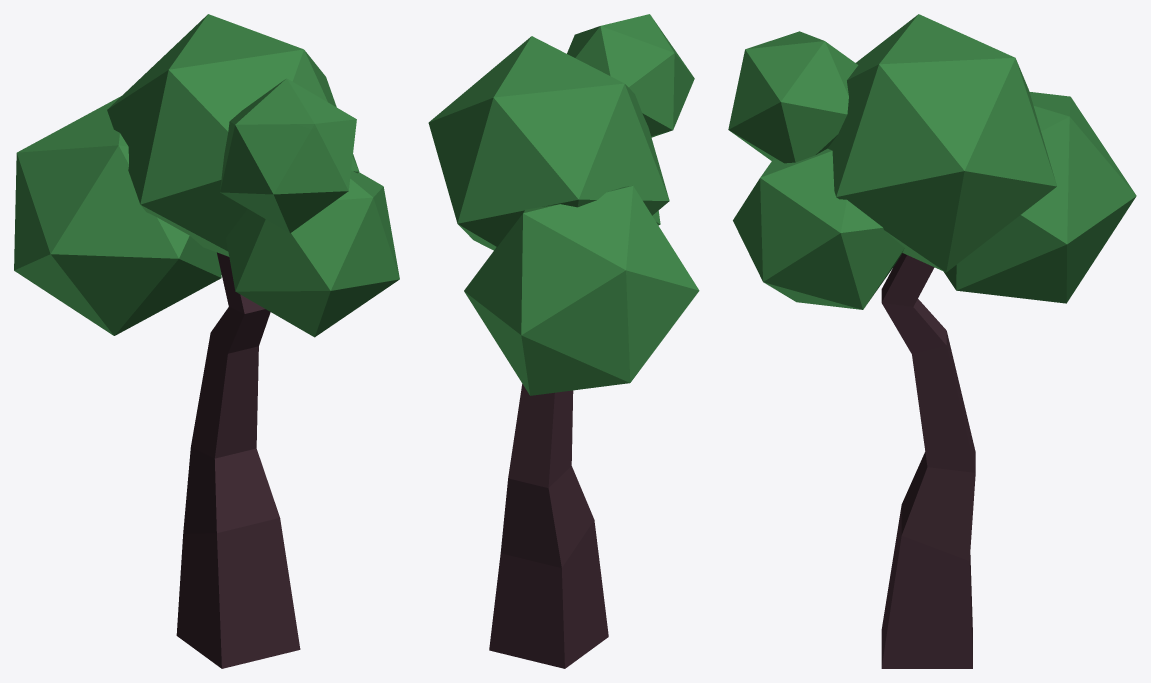
Rendered from TreePackage.fbx_Tree_006.fbx.
3 views of the same model, side by side, from view 1: azimuth 30°, elevation 25°; view 2: azimuth 150°, elevation 25°; view 3: azimuth 270°, elevation 25° (orthographic). The views are drawn at different scales.
Visible parts, largest first — view 1: Icosphere.008, Circle.005; view 2: Icosphere.008, Circle.005; view 3: Icosphere.008, Circle.005.
Part boxes in pixels (left/top/right/bottom): Icosphere.008: left=14, top=14, right=399, bottom=337; Circle.005: left=176, top=252, right=300, bottom=668; Icosphere.008: left=428, top=14, right=699, bottom=395; Circle.005: left=489, top=384, right=608, bottom=668; Icosphere.008: left=728, top=14, right=1136, bottom=309; Circle.005: left=881, top=253, right=975, bottom=668.
Bounding box in the file's own units: 277 × 574 × 350.
